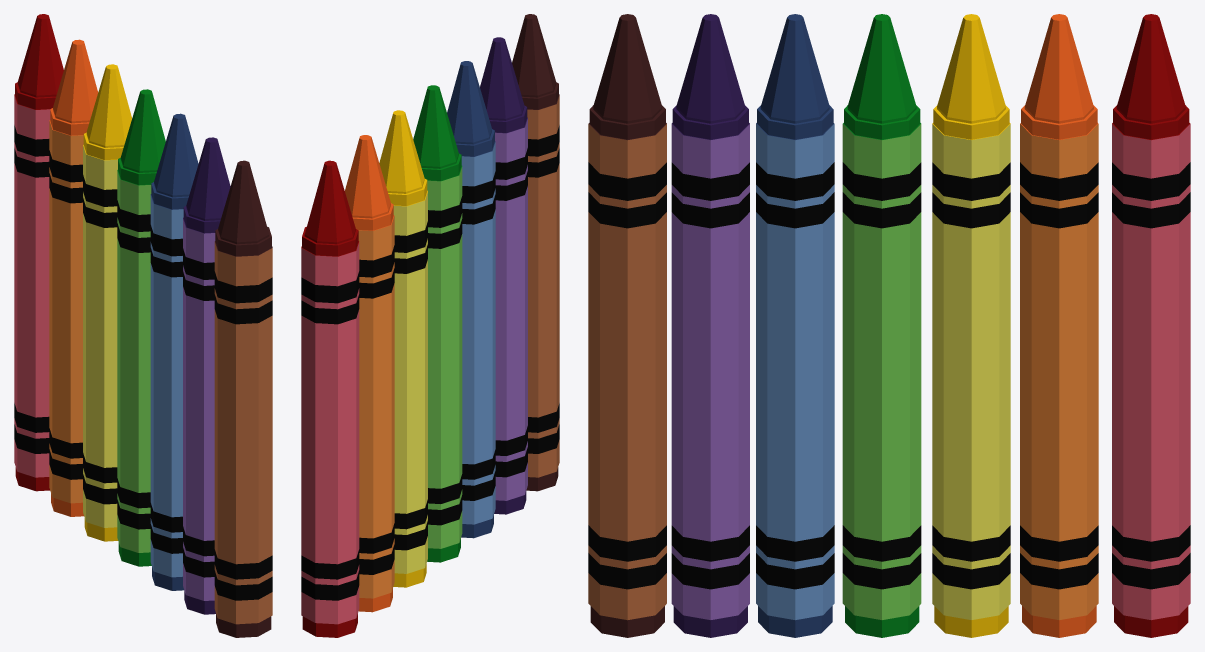
File: node_lev3.009.glb
3 renders of one model, left to right at view 1: azimuth 30°, elevation 25°; view 2: azimuth 150°, elevation 25°; view 3: azimuth 270°, elevation 25°, orthographic. The views are drawn at different scales.
Parts seen in each view (by area): view 1: node_lev3.009; view 2: node_lev3.009; view 3: node_lev3.009.
Boxes of the visible parts, box(x1,y1,x2,y2) form: node_lev3.009: box(14, 14, 272, 637); node_lev3.009: box(301, 14, 559, 637); node_lev3.009: box(588, 14, 1190, 637).
Size of the model in its own units: 1.36 by 11.58 by 10.45.
